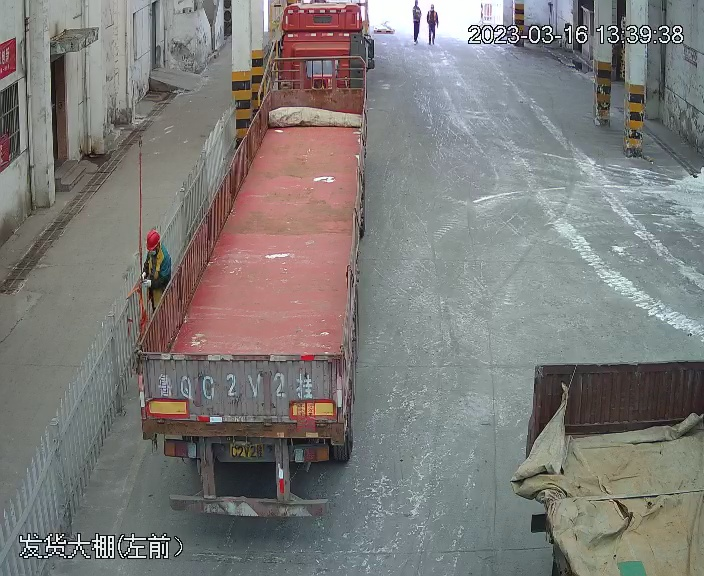head: (141, 227, 173, 272)
helmet: (144, 228, 162, 247)
people: (522, 353, 704, 576), (138, 232, 175, 316), (427, 4, 439, 46), (412, 1, 421, 47)
truck: (104, 6, 376, 526)
